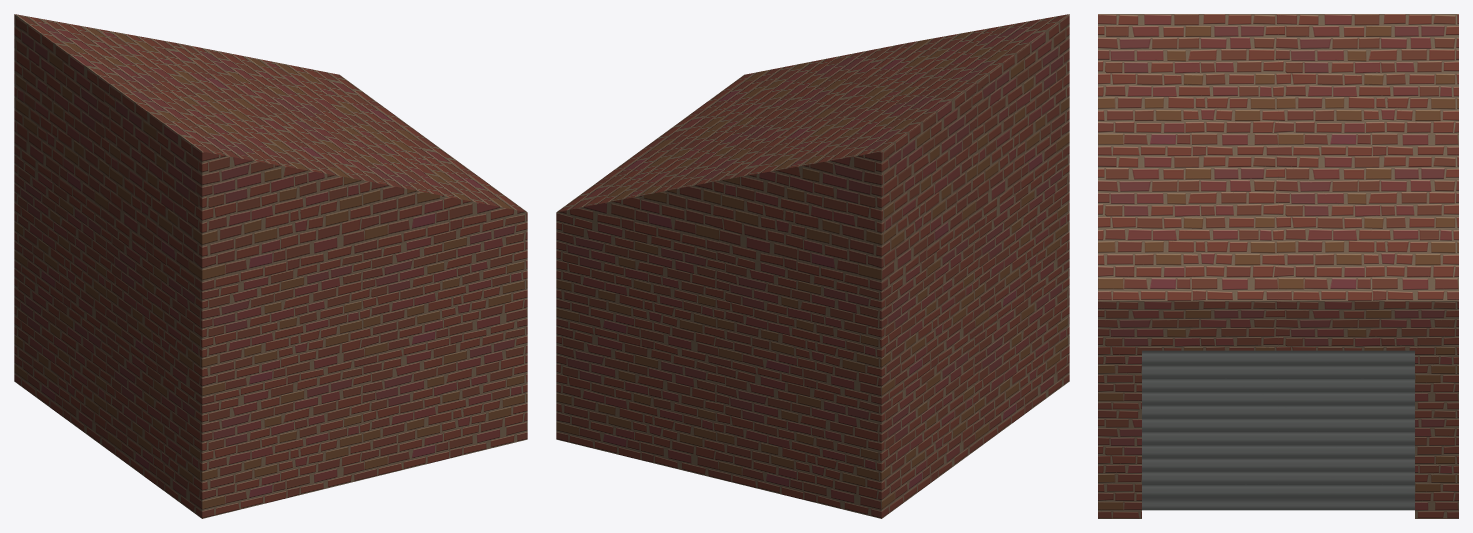
File: Bock_A2.fbx
3 views of the same model, side by side, from view 1: azimuth 30°, elevation 25°; view 2: azimuth 150°, elevation 25°; view 3: azimuth 270°, elevation 25° (orthographic). The views are drawn at different scales.
Parts seen in each view (by area): view 1: Bock_A2; view 2: Bock_A2; view 3: Bock_A2.
Boxes of the visible parts, left/top/right/bottom form: Bock_A2: left=14, top=14, right=527, bottom=518; Bock_A2: left=556, top=14, right=1069, bottom=518; Bock_A2: left=1098, top=14, right=1458, bottom=518.
Size of the model in its own units: 600 by 647 by 600.
1 material, 1 textured.
